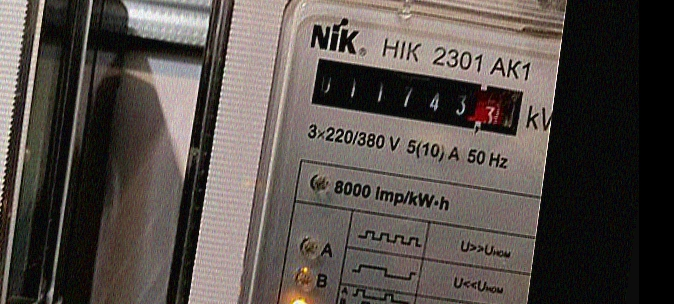0: (318, 67, 335, 95)
1: (345, 70, 362, 100), (372, 75, 389, 104)
3: (452, 89, 470, 118), (480, 103, 498, 126)
4: (427, 87, 444, 113)
7: (399, 81, 416, 108)
screen: (302, 51, 534, 144)
